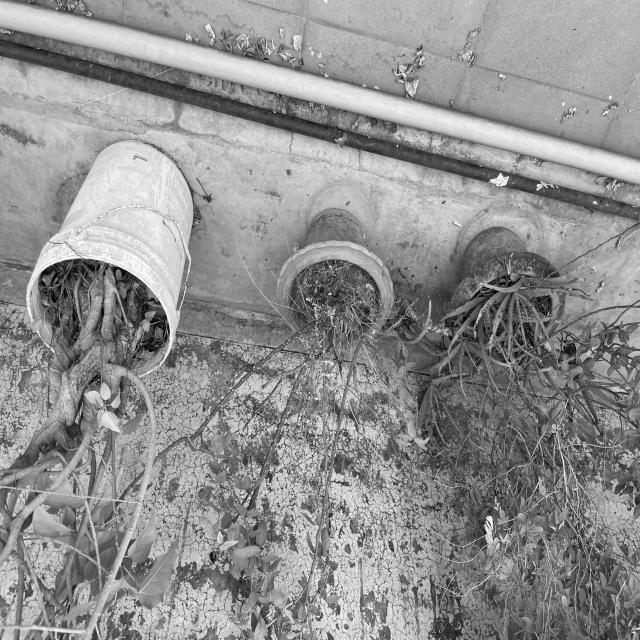Breeding Place: (26, 140, 195, 367), (278, 212, 392, 352), (460, 228, 554, 350)
